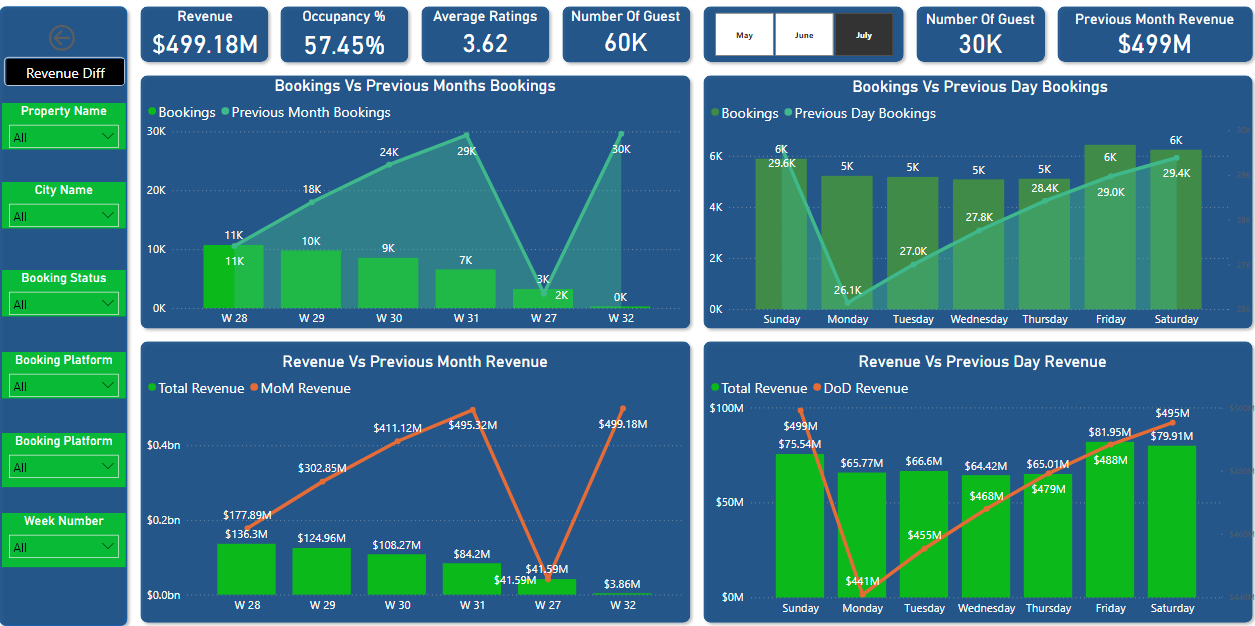

What the dashboard file says about the page in this screenshot:
{"tool":"powerbi","page":{"name":"MoM Revenue & Booking Details","canvas":[1800,900],"ordinal":3},"visuals":[{"type":"shape","box":[1000.9,476.3,799.1,418],"z":0},{"type":"shape","box":[200.5,98.1,800.5,378.2],"z":1000},{"type":"shape","box":[1000.4,0,303,96.8],"z":2000},{"type":"shape","box":[800.5,0,200.5,98.1],"z":3000},{"type":"shape","box":[600,0,200.5,98.1],"z":4000},{"type":"shape","box":[0,0,200.4,899.4],"z":5000},{"type":"shape","box":[399.5,0,200.5,98.1],"z":6000},{"type":"card","title":"Occupancy %","fields":{"Values":["Main Measure.Occupancy %"]},"box":[412.5,10.9,173.4,75],"z":7000},{"type":"card","title":"Average Ratings","fields":{"Values":["Main Measure.Average Ratings"]},"box":[610.9,10.9,176.6,68.8],"z":8000},{"type":"card","title":"Number Of Guest","fields":{"Values":["Main Measure.Actual Guest"]},"box":[812.5,10.9,175,65.6],"z":9000},{"type":"slicer","fields":{"Values":["Dim_Date.Mm Yy.Variation.Date Hierarchy.Month"]},"box":[1000.4,10.8,303,75.3],"z":10000},{"type":"shape","box":[200.5,0,200.5,96.7],"z":11000},{"type":"card","title":"Revenue","fields":{"Values":["Main Measure.Total Revenue"]},"box":[201.9,11.4,199.1,73.9],"z":12000},{"type":"slicer","title":"Property Name","fields":{"Values":["Dim_Hotels.Property_Name"]},"box":[12.5,147,175.7,66.3],"z":13000},{"type":"slicer","title":"City Name","fields":{"Values":["Dim_Hotels.City"]},"box":[12.5,258.2,175.7,66.3],"z":14000},{"type":"slicer","title":"Booking Status","fields":{"Values":["Fact_Bookings.Booking_Status"]},"box":[12.5,383.7,175.7,66.3],"z":15000},{"type":"slicer","title":"Booking Platform","fields":{"Values":["Fact_Bookings.Booking_Platform"]},"box":[12.5,500.2,175.7,66.3],"z":16000},{"type":"slicer","title":"Booking Platform","fields":{"Values":["Dim_Date.Mm Yy.Variation.Date Hierarchy.Month"]},"box":[12.5,614.9,175.7,77.1],"z":17000},{"type":"slicer","title":"Week Number","fields":{"Values":["Dim_Date.Week No"]},"box":[12.5,729.7,175.7,77.1],"z":18000},{"type":"shape","box":[200.5,476.3,800.5,418],"z":19000},{"type":"lineStackedColumnComboChart","title":"Bookings Vs Previous Months Bookings","fields":{"Category":["Dim_Date.Week No"],"Y2":["Main Measure.Previous Month Bookings"],"Y":["Main Measure.Bookings"]},"box":[213.3,108.1,773.5,365.4],"z":20000},{"type":"shape","box":[1303.4,0,200.8,96.8],"z":21000},{"type":"card","title":"Number Of Guest","fields":{"Values":["Main Measure.Previous Month Bookings"]},"box":[1312.4,16.1,182.9,64.5],"z":22000},{"type":"lineStackedColumnComboChart","title":"Revenue Vs Previous Month Revenue","fields":{"Category":["Dim_Date.Week No"],"Y":["Main Measure.Total Revenue"],"Y2":["Main Measure.MoM Revenue"]},"box":[213.3,500.5,773.5,379.6],"z":23000},{"type":"shape","box":[1504.2,0,295.8,96.8],"z":24000},{"type":"card","title":"Previous Month Revenue","fields":{"Values":["Main Measure.MoM Revenue"]},"box":[1516.7,16.1,268.9,64.5],"z":25000},{"type":"shape","box":[1000.9,98.1,799.1,378.2],"z":26000},{"type":"lineStackedColumnComboChart","title":"Bookings Vs Previous Day Bookings","fields":{"Y2":["Main Measure.Previous Month Bookings"],"Y":["Main Measure.Bookings"],"Category":["Dim_Date.Day Name"]},"box":[1013.7,109.5,779.1,365.4],"z":27000},{"type":"lineStackedColumnComboChart","title":"Revenue Vs Previous Day Revenue","fields":{"Category":["Dim_Date.Day Name"],"Y":["Main Measure.Total Revenue"],"Y2":["Main Measure.MoM Revenue"]},"box":[1013.7,500.5,786.3,383.9],"z":28000},{"type":"actionButton","box":[73.5,30.5,55.6,48.4],"z":29000},{"type":"actionButton","box":[16.1,80.7,172.1,41.2],"z":29001}]}

Visuals, with their boxes in screenshot pixels (x1, y1, x2, y2), scaled from the page's 1800x900 canvas onto the 1255x626 screenshot:
shape: Rect(698, 331, 1254, 622)
shape: Rect(140, 68, 698, 331)
shape: Rect(698, 0, 909, 67)
shape: Rect(558, 0, 698, 68)
shape: Rect(418, 0, 558, 68)
shape: Rect(0, 0, 140, 625)
shape: Rect(279, 0, 418, 68)
"Occupancy %" card: Rect(288, 8, 409, 60)
"Average Ratings" card: Rect(426, 8, 549, 55)
"Number Of Guest" card: Rect(566, 8, 689, 53)
slicer - Dim_Date.Mm Yy.Variation.Date Hierarchy.Month: Rect(698, 8, 909, 60)
shape: Rect(140, 0, 280, 67)
"Revenue" card: Rect(141, 8, 280, 59)
"Property Name" slicer: Rect(9, 102, 131, 148)
"City Name" slicer: Rect(9, 180, 131, 226)
"Booking Status" slicer: Rect(9, 267, 131, 313)
"Booking Platform" slicer: Rect(9, 348, 131, 394)
"Booking Platform" slicer: Rect(9, 428, 131, 481)
"Week Number" slicer: Rect(9, 508, 131, 561)
shape: Rect(140, 331, 698, 622)
"Bookings Vs Previous Months Bookings" lineStackedColumnComboChart: Rect(149, 75, 688, 329)
shape: Rect(909, 0, 1049, 67)
"Number Of Guest" card: Rect(915, 11, 1043, 56)
"Revenue Vs Previous Month Revenue" lineStackedColumnComboChart: Rect(149, 348, 688, 612)
shape: Rect(1049, 0, 1254, 67)
"Previous Month Revenue" card: Rect(1057, 11, 1245, 56)
shape: Rect(698, 68, 1254, 331)
"Bookings Vs Previous Day Bookings" lineStackedColumnComboChart: Rect(707, 76, 1250, 330)
"Revenue Vs Previous Day Revenue" lineStackedColumnComboChart: Rect(707, 348, 1254, 615)
actionButton: Rect(51, 21, 90, 55)
actionButton: Rect(11, 56, 131, 85)
